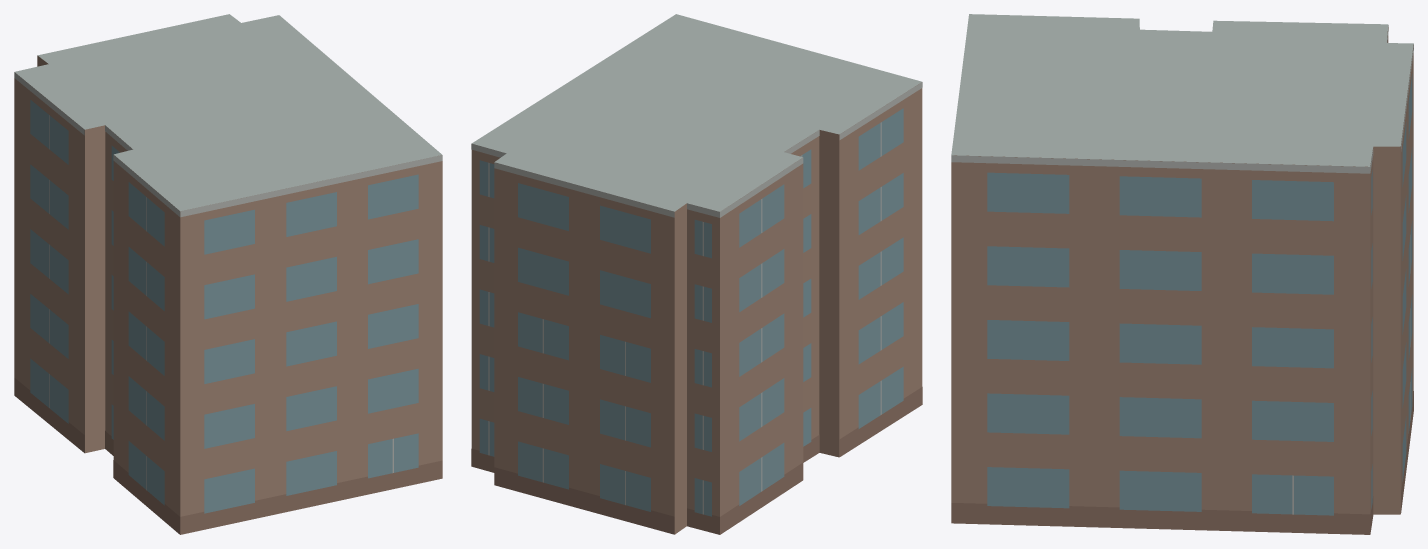
Rendered from survey-upis-32889113.glb.
3 renders of one model, left to right at view 1: azimuth 30°, elevation 25°; view 2: azimuth 150°, elevation 25°; view 3: azimuth 270°, elevation 25°, orthographic. The views are drawn at different scales.
Visible parts, largest first — view 1: survey-upis-32889113.tmp; view 2: survey-upis-32889113.tmp; view 3: survey-upis-32889113.tmp.
Boxes of the visible parts, left/top/right/bottom form: survey-upis-32889113.tmp: left=14, top=14, right=442, bottom=534; survey-upis-32889113.tmp: left=471, top=14, right=922, bottom=534; survey-upis-32889113.tmp: left=951, top=14, right=1413, bottom=534.
Size of the model in its own units: 11.59 by 13 by 14.82.
